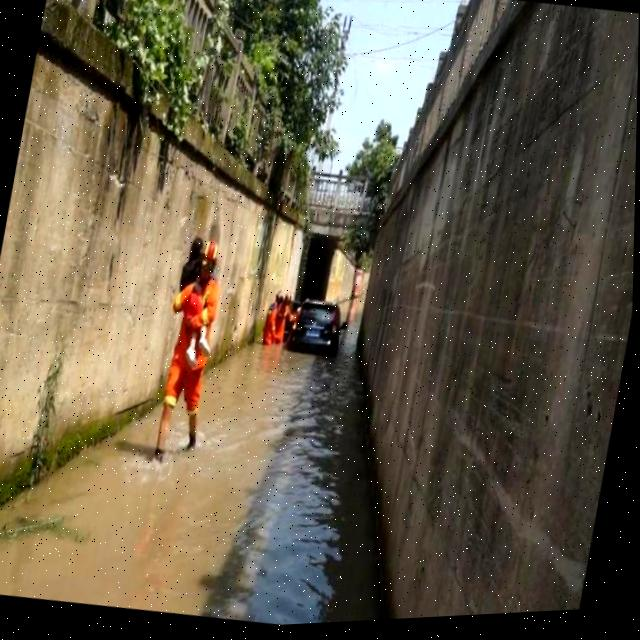civilian: (163, 230, 231, 369)
rescuer: (150, 227, 240, 459), (257, 279, 290, 349), (269, 287, 303, 354)
